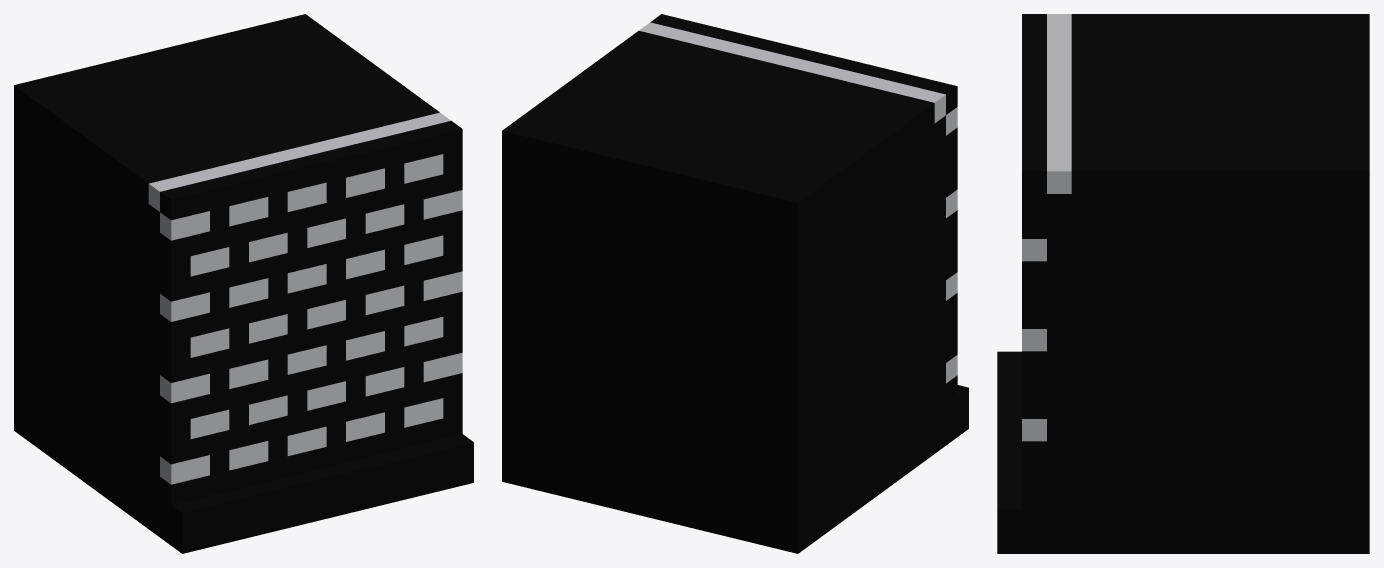
Rendered from dungeon_d_a_outer_wall_segment_a_flipped.obj.
3 views of the same model, side by side, from view 1: azimuth 30°, elevation 25°; view 2: azimuth 150°, elevation 25°; view 3: azimuth 270°, elevation 25° (orthographic). The views are drawn at different scales.
Bounding box in the file's own units: 1.5 × 1.7 × 1.5.
Materials: 1 (1 with a texture image).
